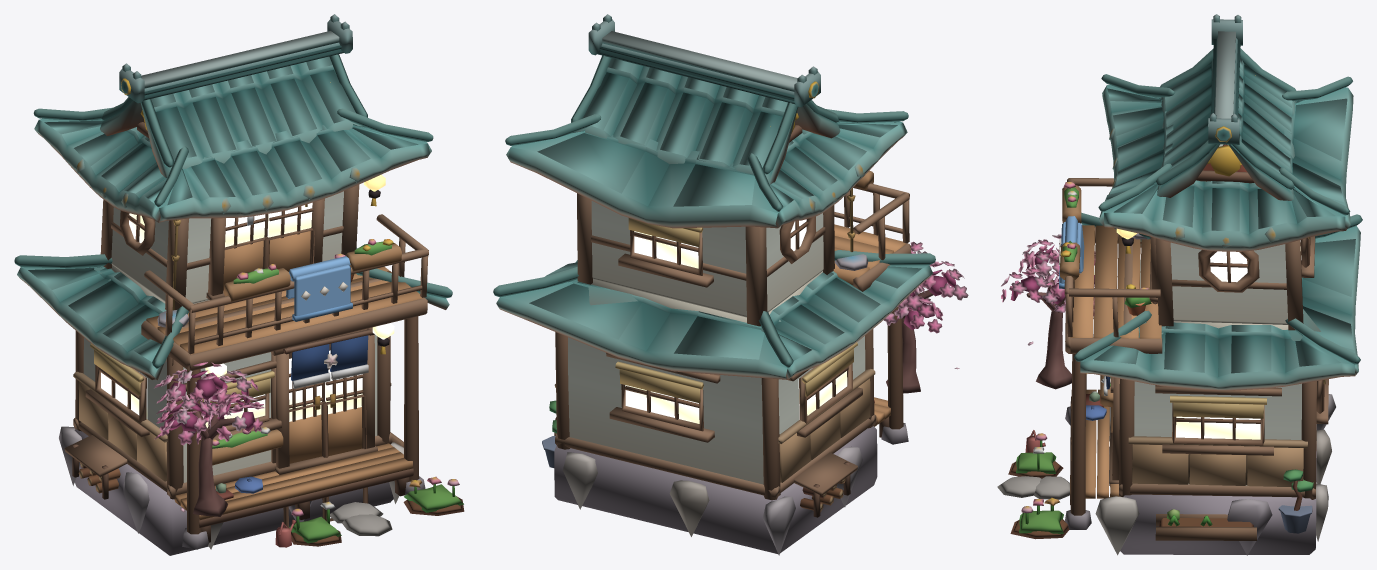
Rendered from home-3-v1.glb.
3 views of the same model, side by side, from view 1: azimuth 30°, elevation 25°; view 2: azimuth 150°, elevation 25°; view 3: azimuth 270°, elevation 25° (orthographic).
Visible parts, largest first — view 1: home-3-v1, window_glow; view 2: home-3-v1, window_glow; view 3: home-3-v1, window_glow.
Boxes of the visible parts, bbox=[...] form: home-3-v1: bbox=[14, 14, 464, 555]; window_glow: bbox=[101, 175, 394, 428]; home-3-v1: bbox=[493, 14, 968, 555]; window_glow: bbox=[625, 219, 847, 423]; home-3-v1: bbox=[997, 14, 1362, 555]; window_glow: bbox=[1094, 228, 1301, 439].
Size of the model in its own units: 3.36 by 4.63 by 3.47.
